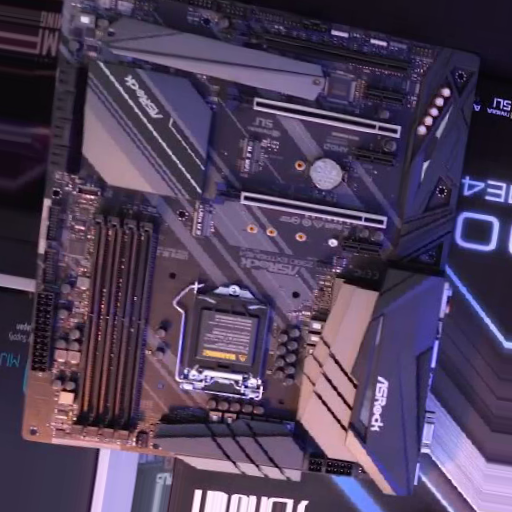CPU: (180, 282, 270, 395)
GPU: (228, 17, 415, 80), (225, 83, 402, 141), (209, 179, 389, 230)
MOTHERBOARD: (22, 1, 485, 493)
RAM: (70, 212, 156, 446)
SSD: (190, 197, 212, 238), (239, 141, 261, 180)
